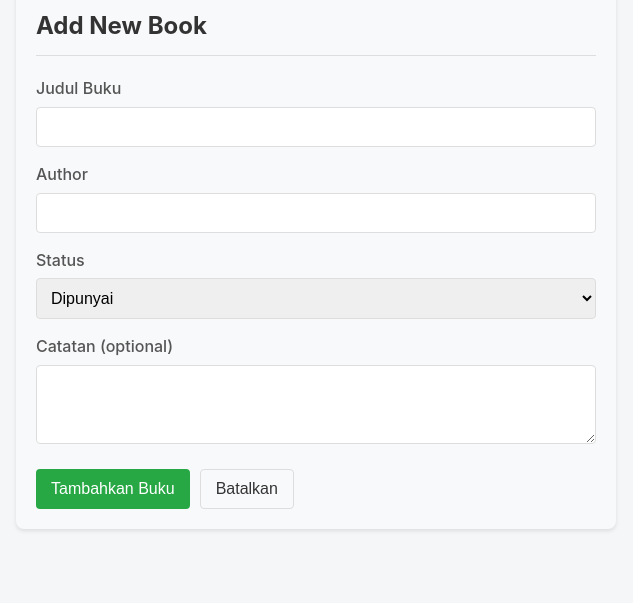
it: BookForm Component › validates required fields
The width and height of the screenshot is (633, 603).
Click the button "Tambahkan Buku".
click(113, 489)  # box 36,469 -> 190,509
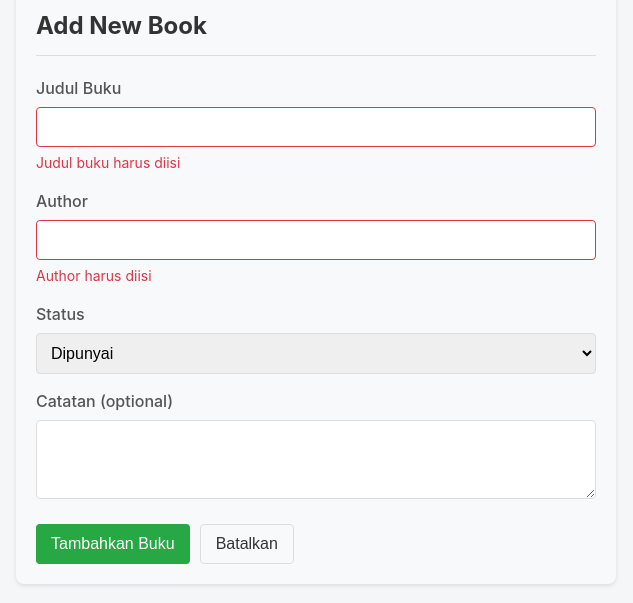
expect the text "Judul buku harus diisi" is shown: met, box 36,154 -> 180,171
expect the text "Author harus diisi" is shown: met, box 36,267 -> 152,284
